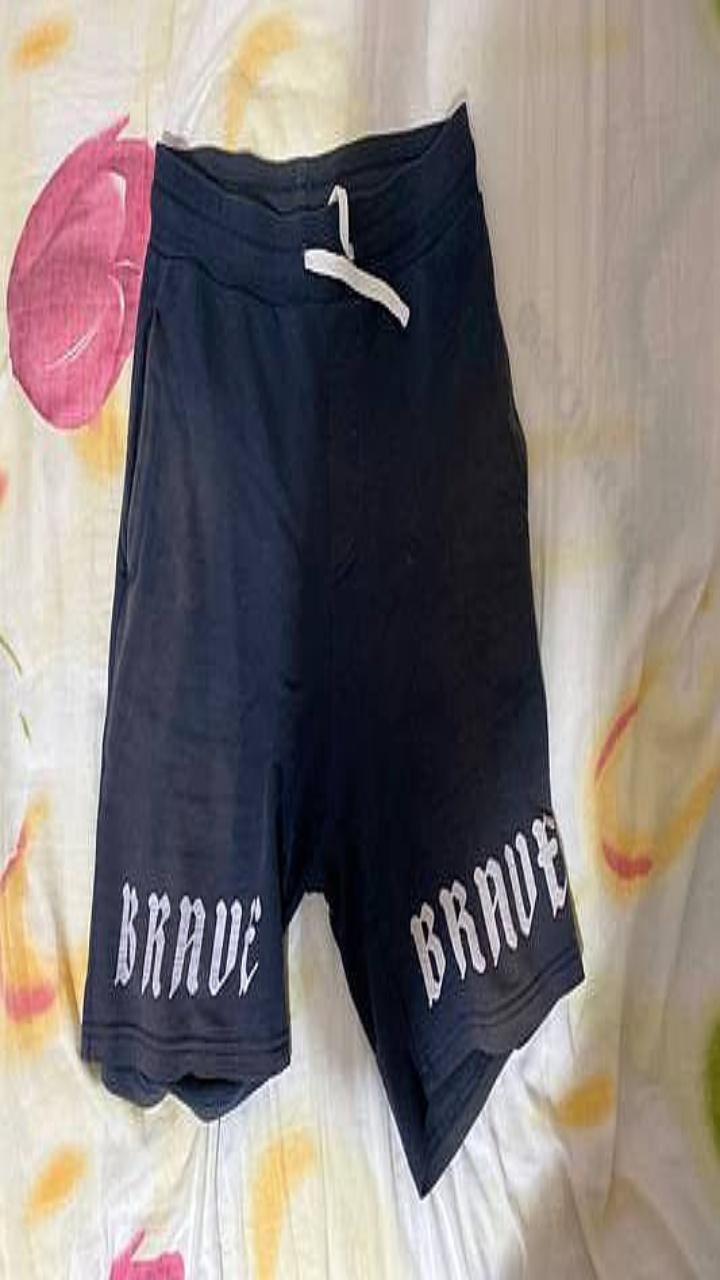Shorts: (81, 106, 582, 1193)
